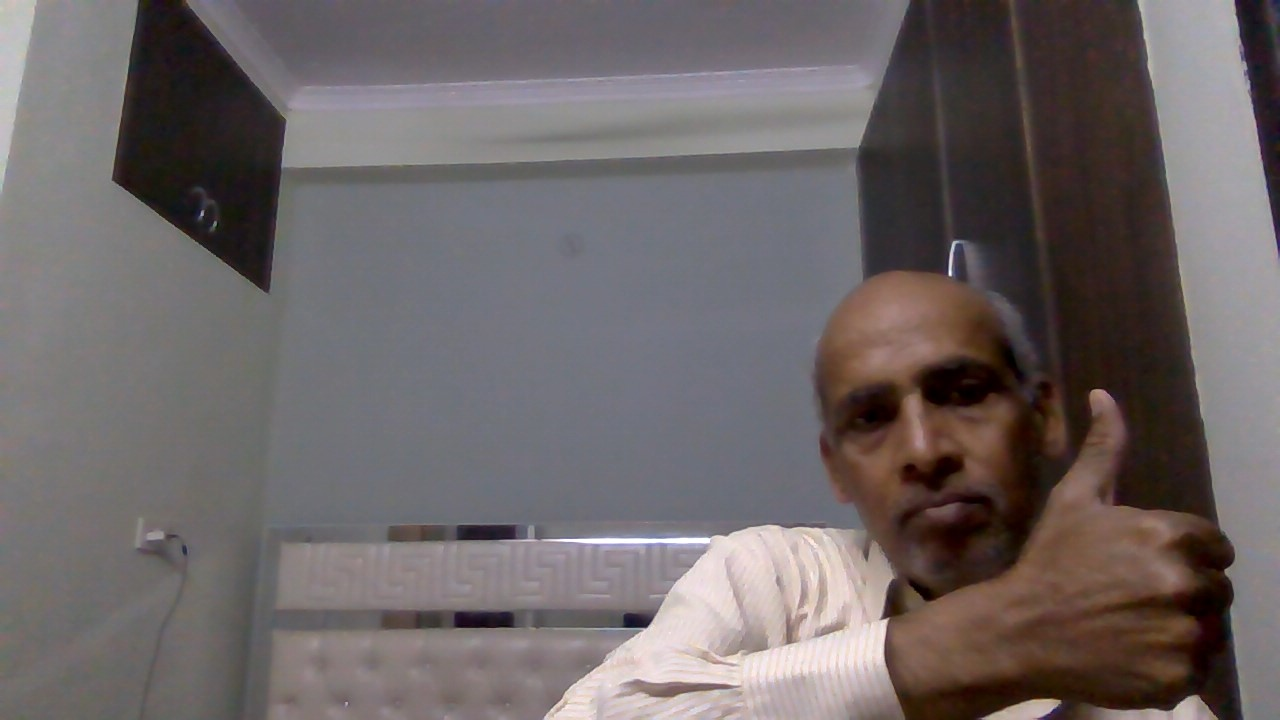Save: (1007, 375, 1245, 719)
